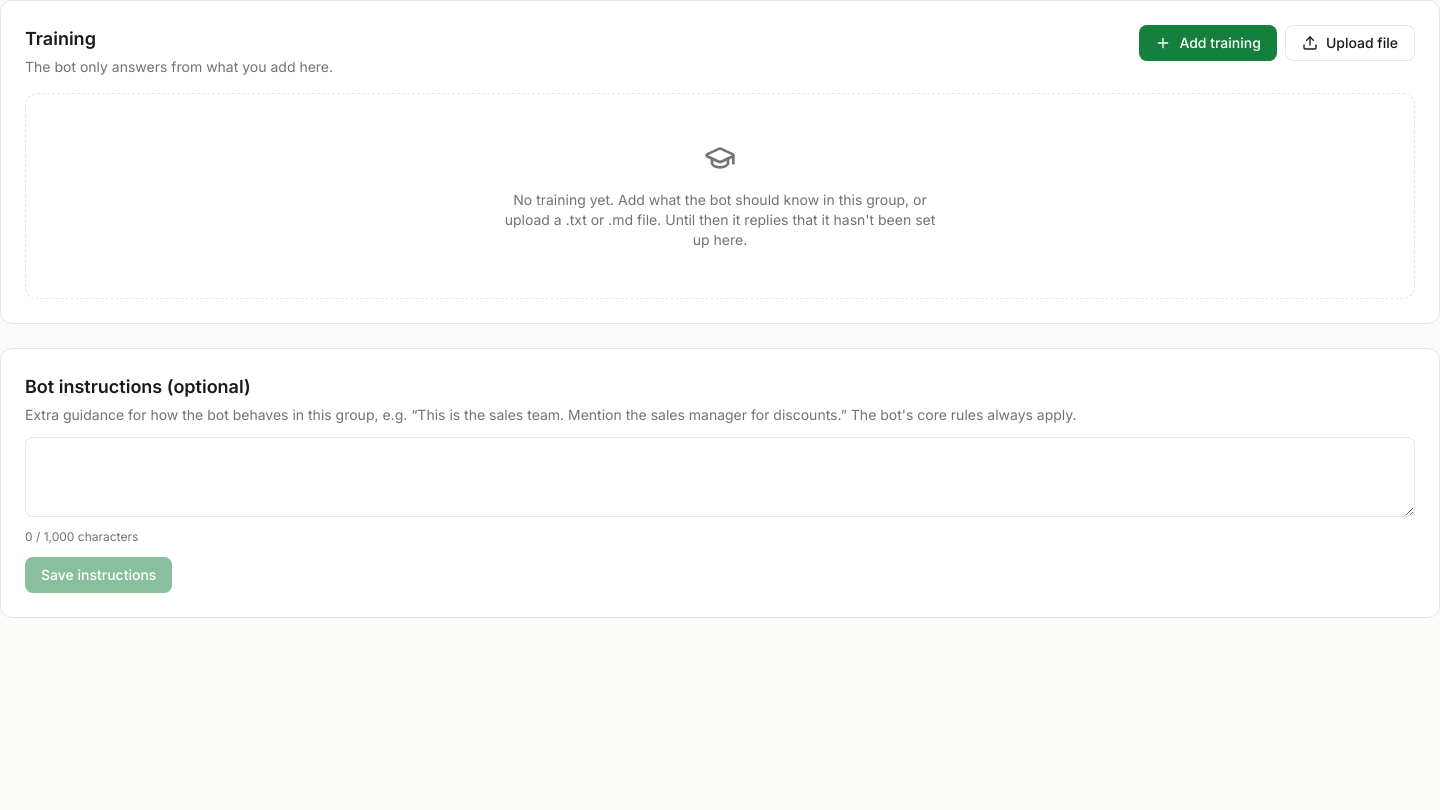
TrainTab › does not save an entry without details
The width and height of the screenshot is (1440, 810).
Click the button "Add training": [1208, 43] box [1139, 25, 1277, 61]
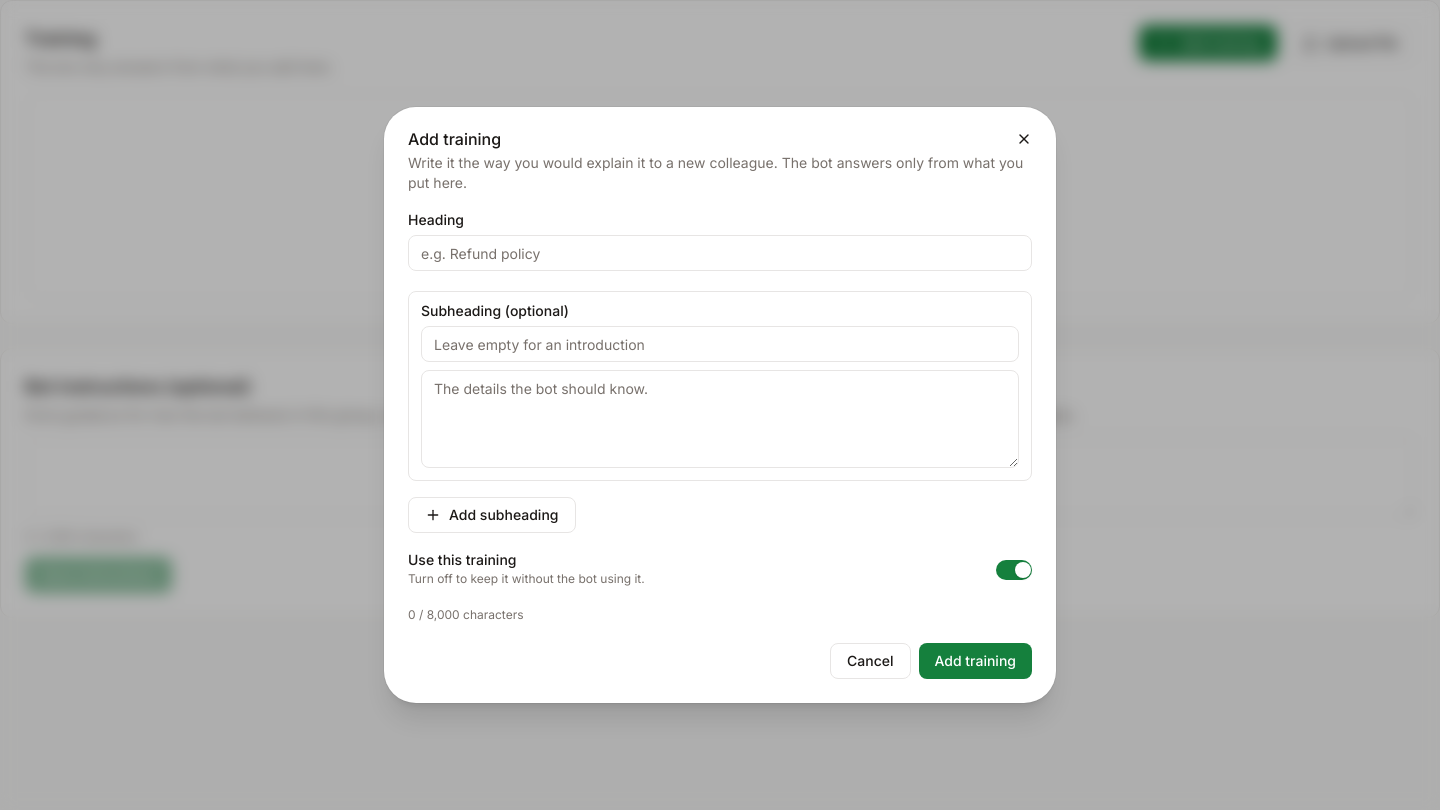
In the field labelled "Heading": [720, 253] box [408, 235, 1032, 271], type "Empty"
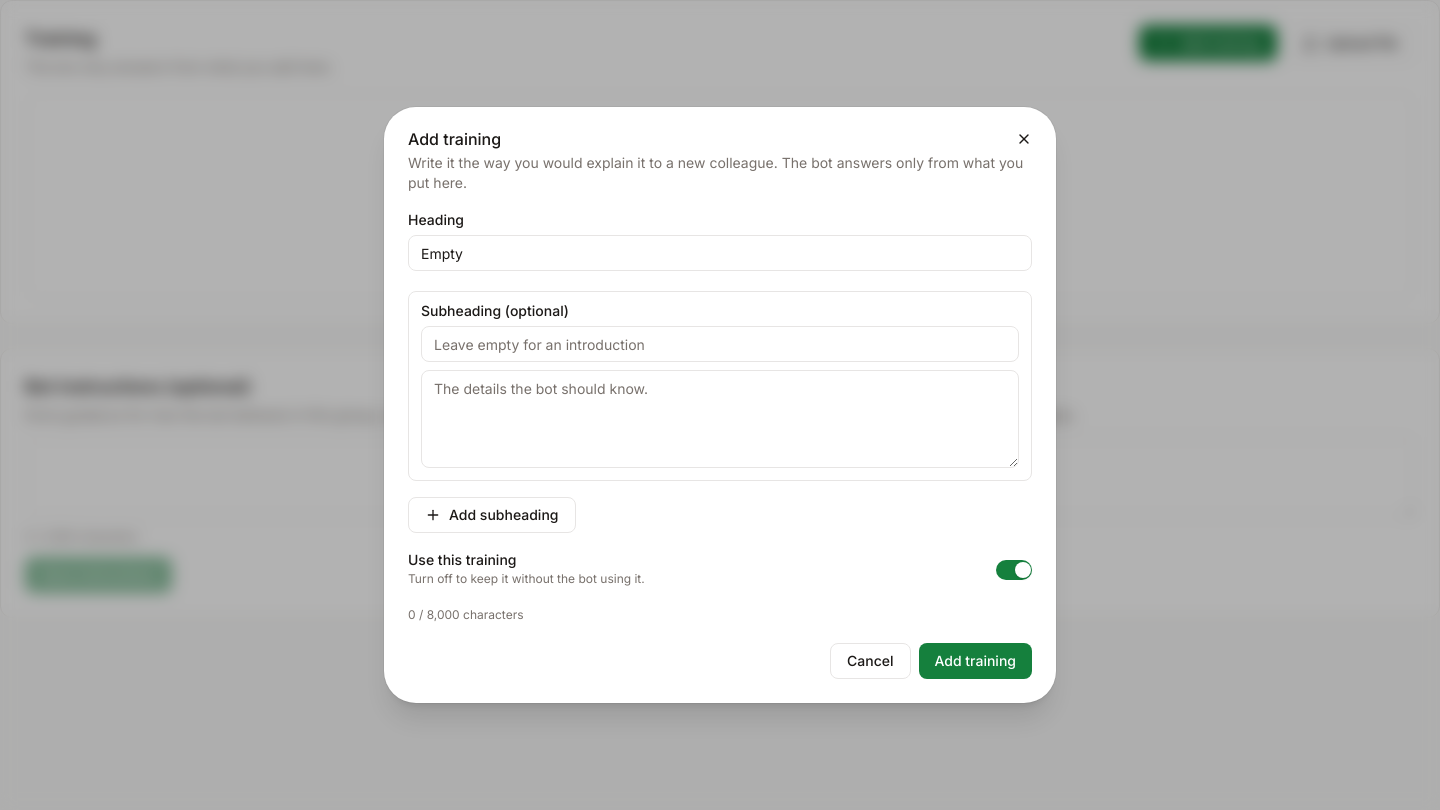
Click the button "Add training": [975, 661] box [918, 643, 1032, 679]
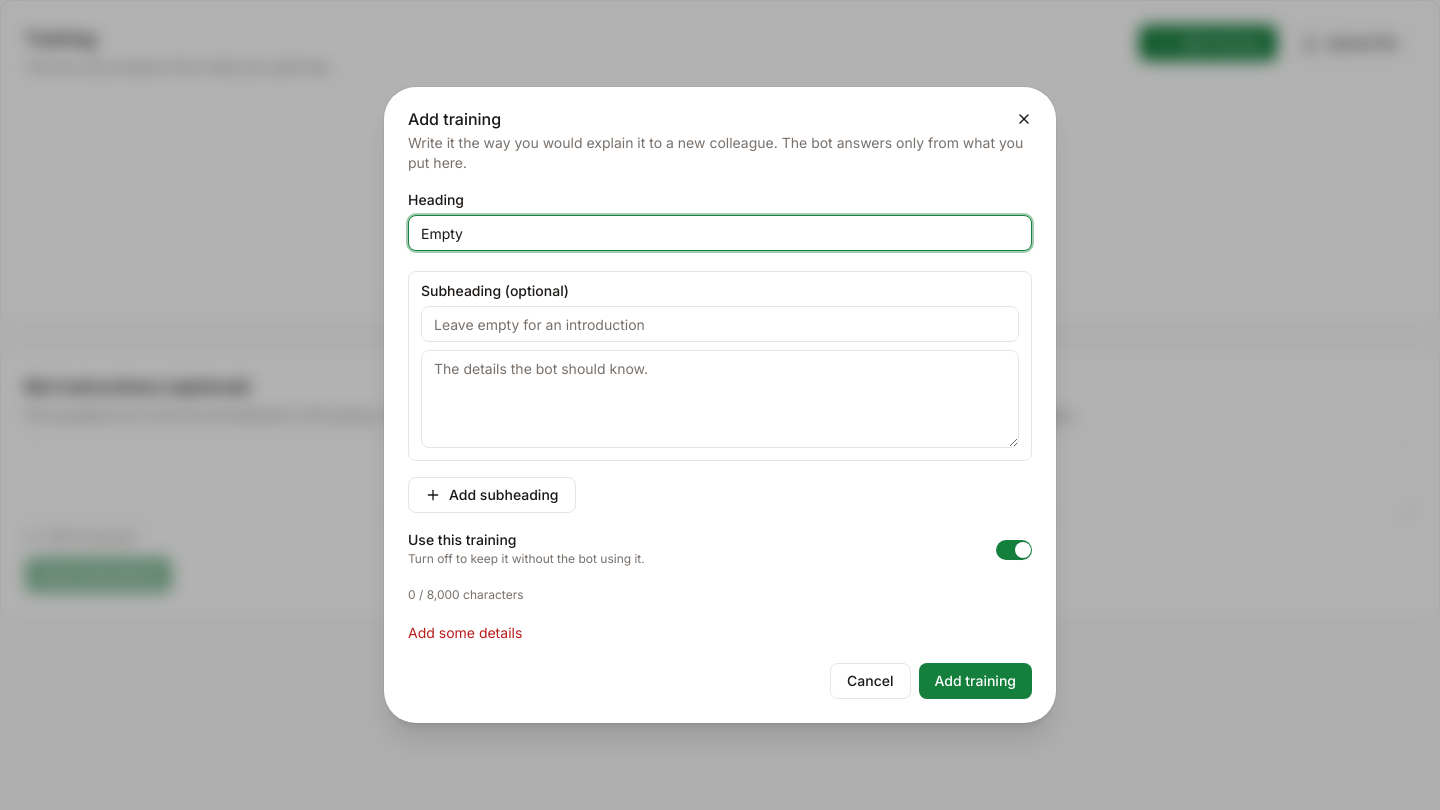
Expected: the text "Add some details" is shown, [408, 624, 522, 641]
